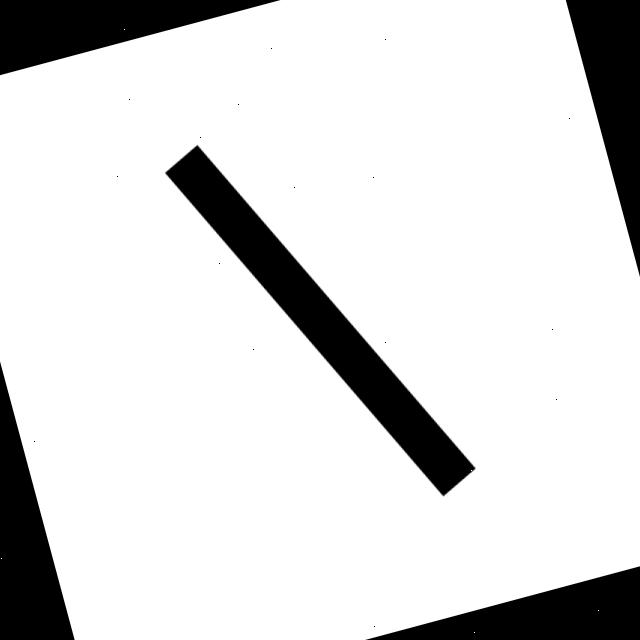line: (164, 144, 475, 496)
